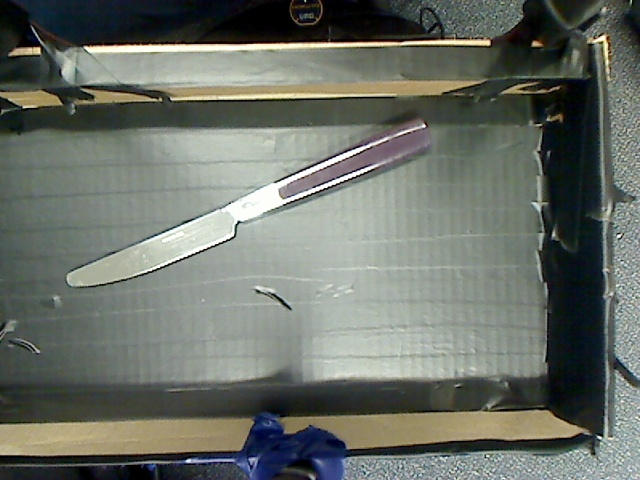knife: (45, 102, 439, 306)
